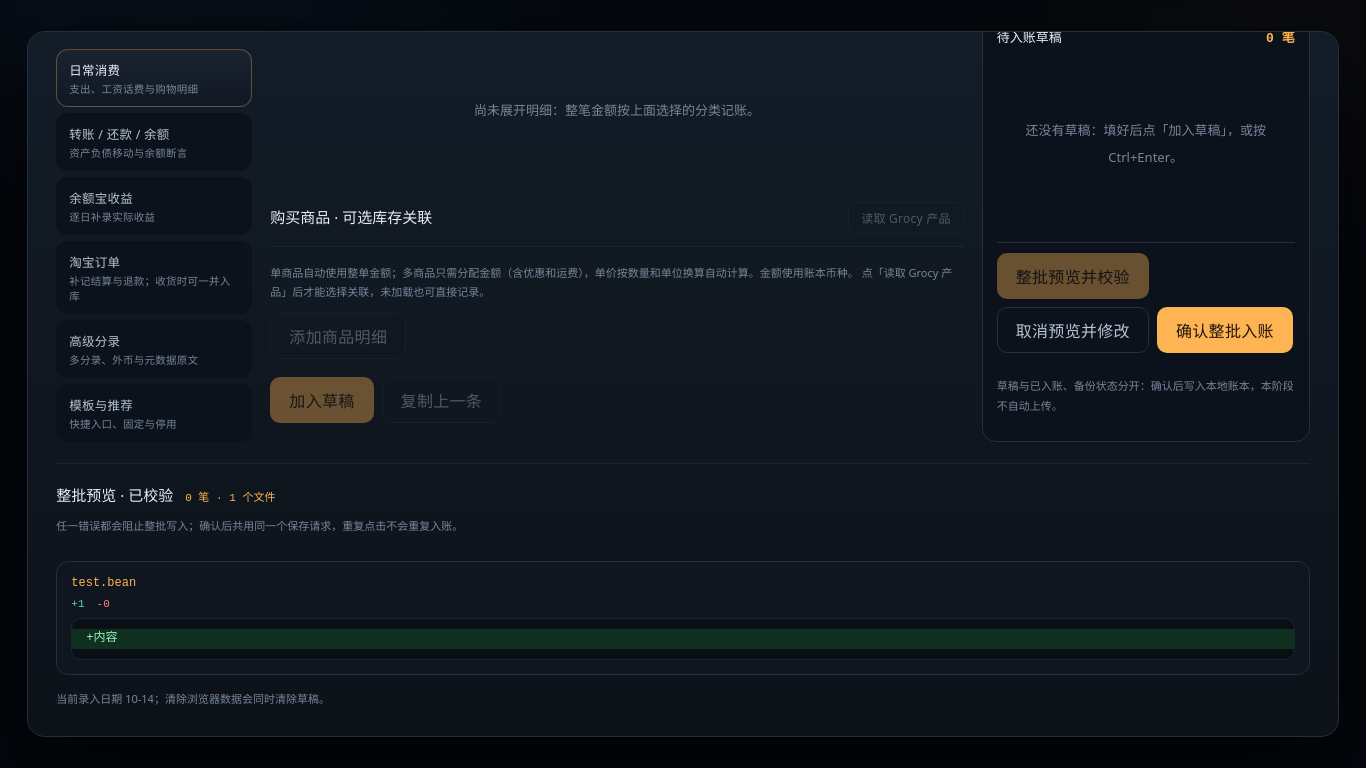
Test: batch 缺失日期的预览阻止保存且不标记为结果未知
(page scrolled)
Click the button "确认整批入账": (1225, 330) [1157,307,1293,353]
(page scrolled)
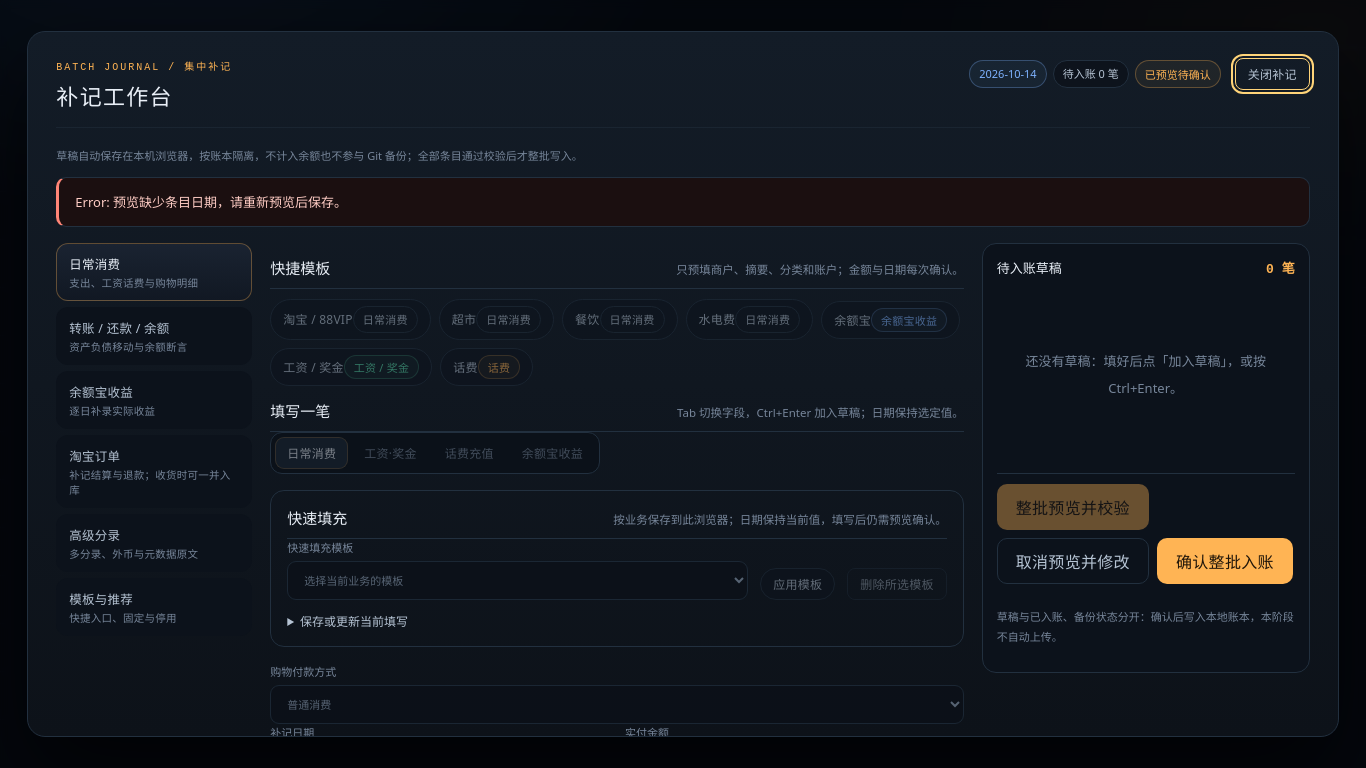
Expected: the message does not show "重试原请求", [56,176,1310,227]
Now the message shows "预览缺少条目日期", box [75,192,347,210]
